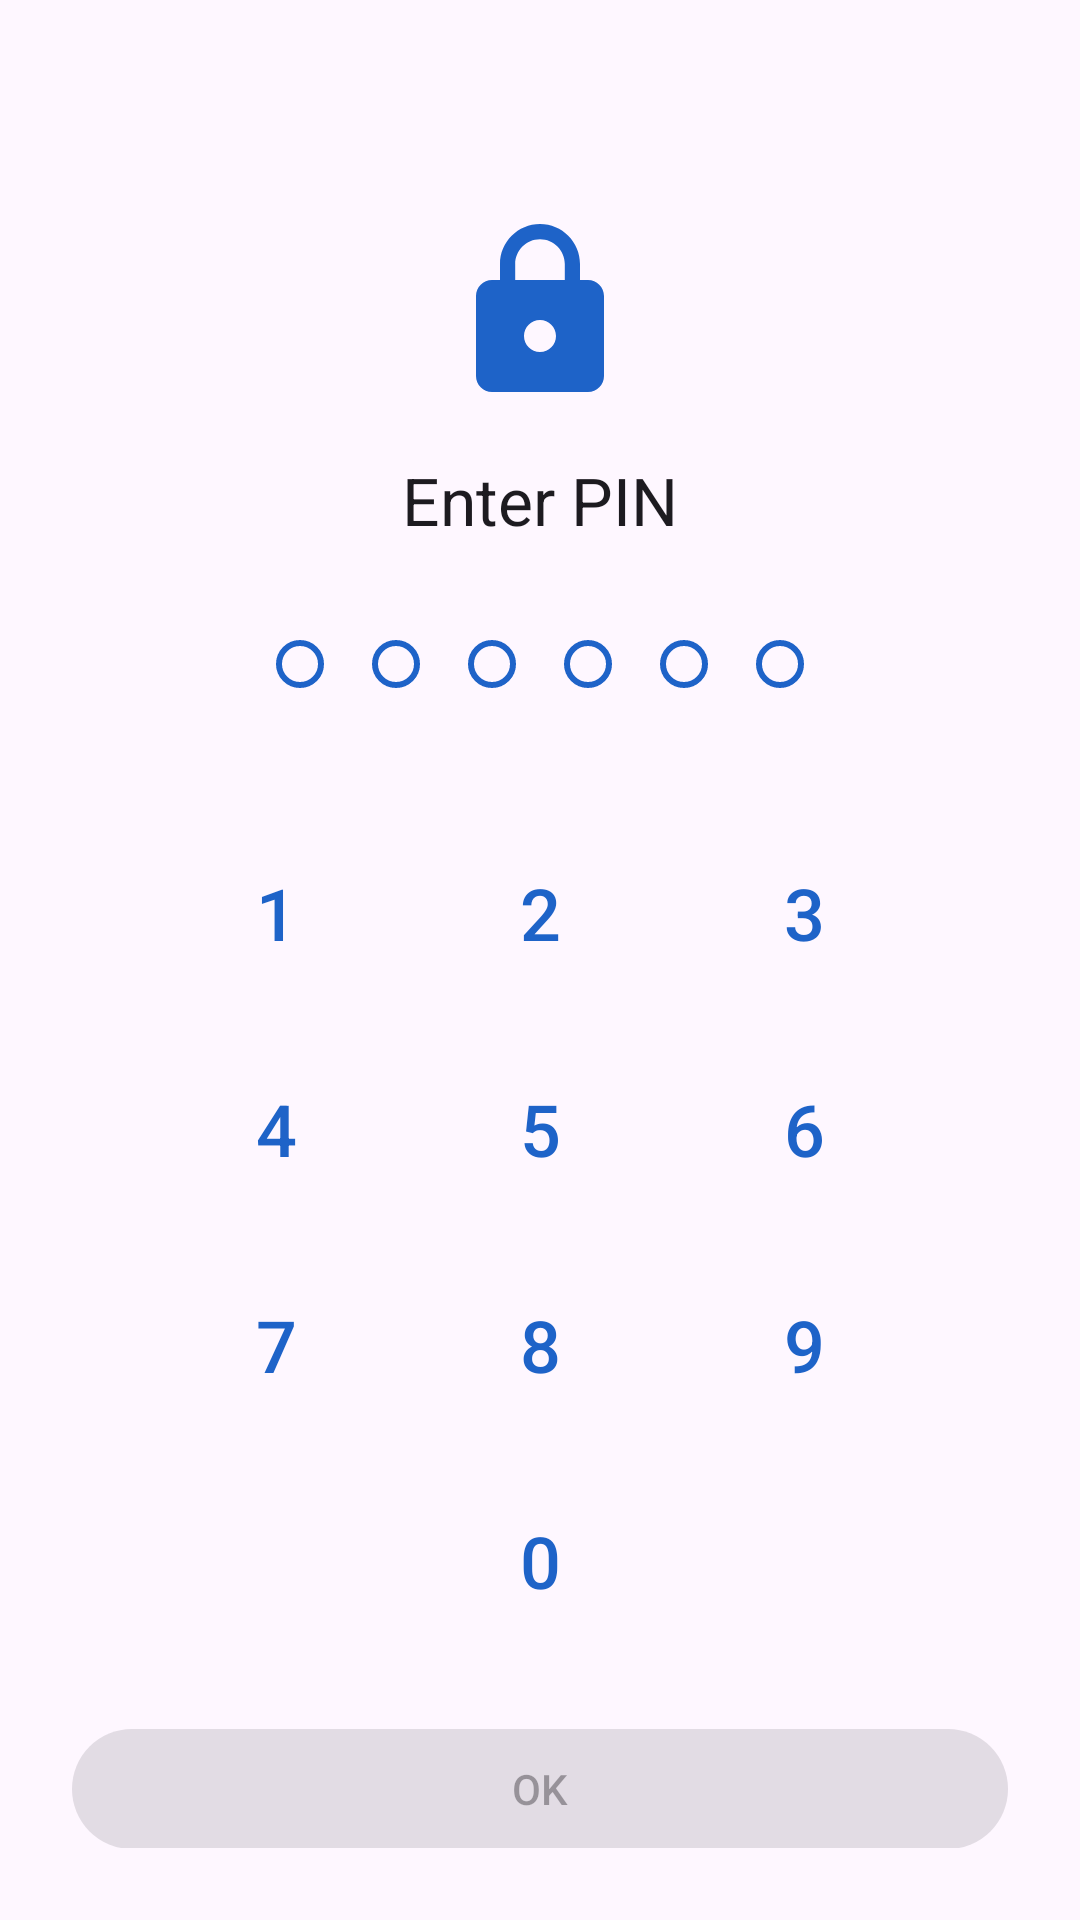

Where to tap for icons on this 1080*1920 app screen, as [x,y]:
lock: [540,308]
